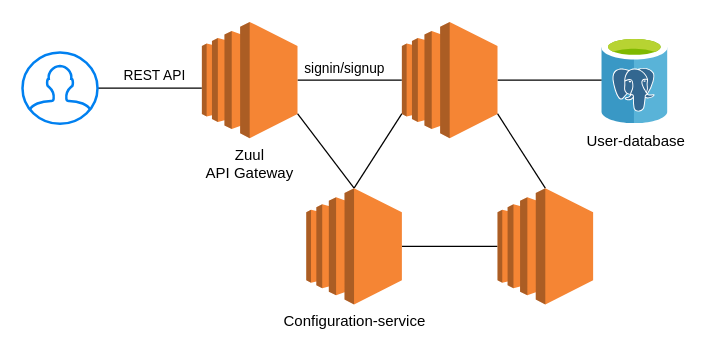
This 706x353 diagram has some shape labels left out. Each missing label, with the box of its shape:
Auth-service: (401, 21, 498, 138)
Mail-service: (496, 187, 593, 304)
